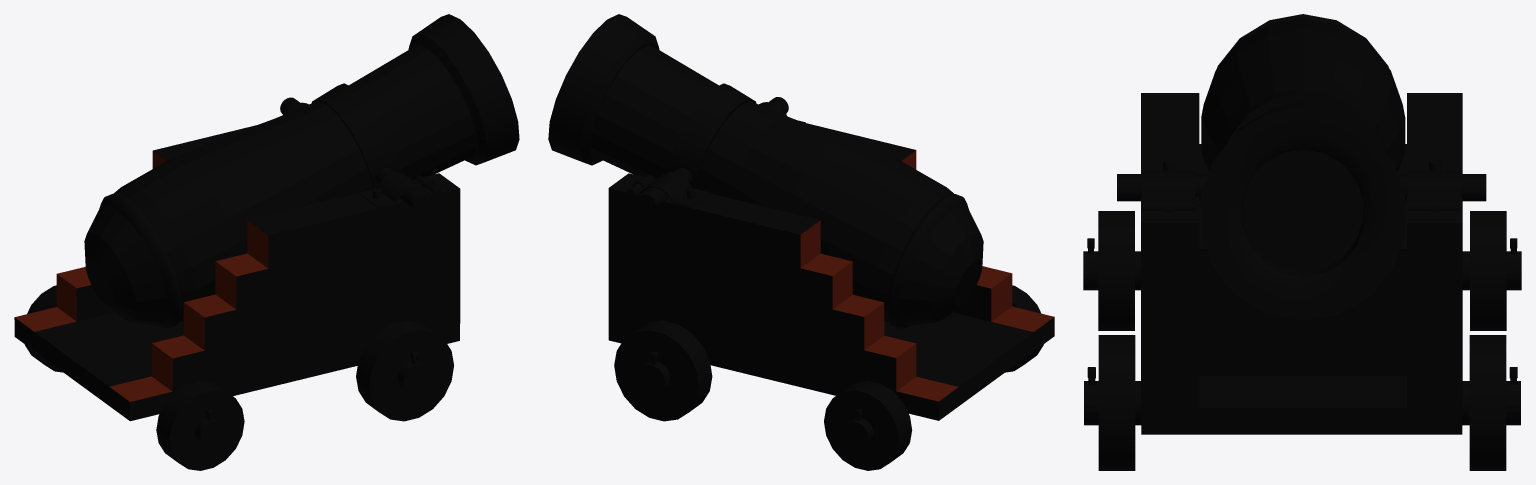
Rendered from canon.fbx.
The picture shows the model from 3 angles, left to right: view 1: azimuth 30°, elevation 25°; view 2: azimuth 150°, elevation 25°; view 3: azimuth 270°, elevation 25°; orthographic projection. The views are drawn at different scales.
Visible parts, largest first — view 1: Box002; view 2: Box002; view 3: Box002.
Boxes of the visible parts, left/top/right/bottom form: Box002: left=14, top=14, right=519, bottom=470; Box002: left=548, top=14, right=1054, bottom=470; Box002: left=1083, top=14, right=1521, bottom=470.
Bounding box in the file's own units: 63.01 × 44.92 × 40.56.
